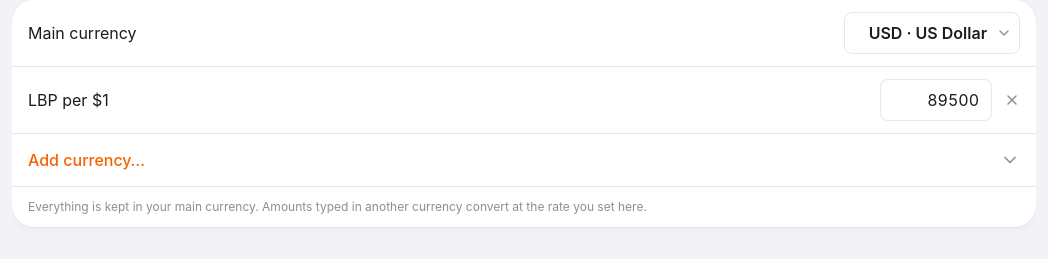
CurrencySettings › drops a picked currency from its remove button too
Select "EUR · Euro" in the dropdown named "Add currency": (524, 160) [12,134,1036,186]
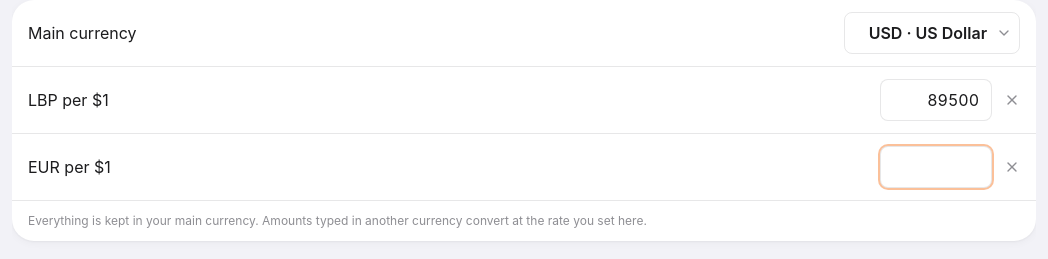
Click the button named "Remove EUR": (1012, 167) [1000,155,1024,179]
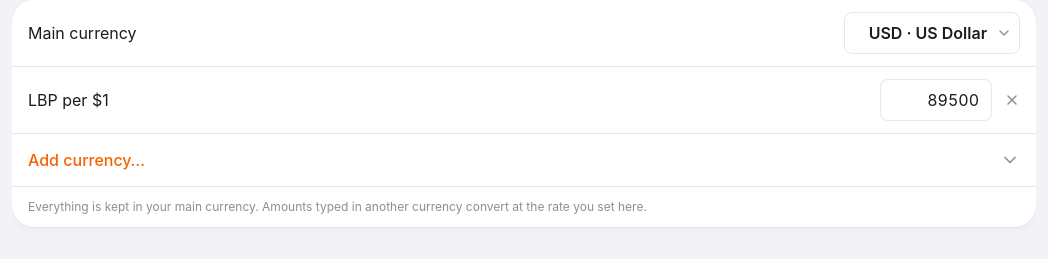
Result: the label labelled "EUR per $1" is gone
